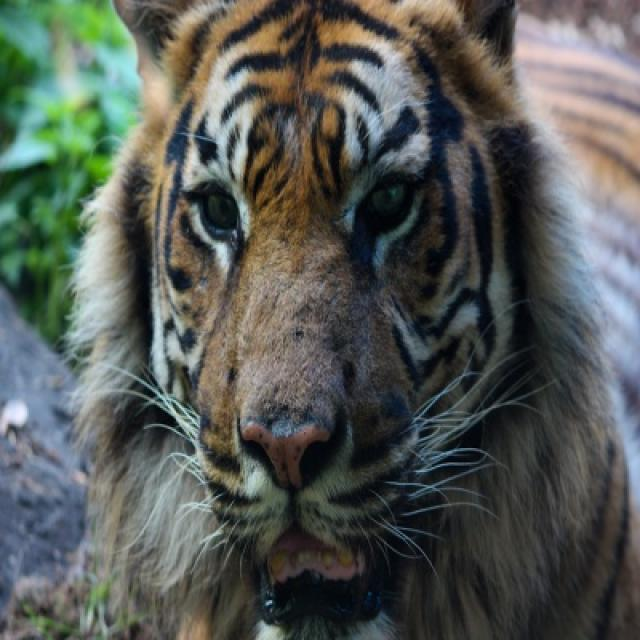Tiger: (62, 0, 638, 638)
